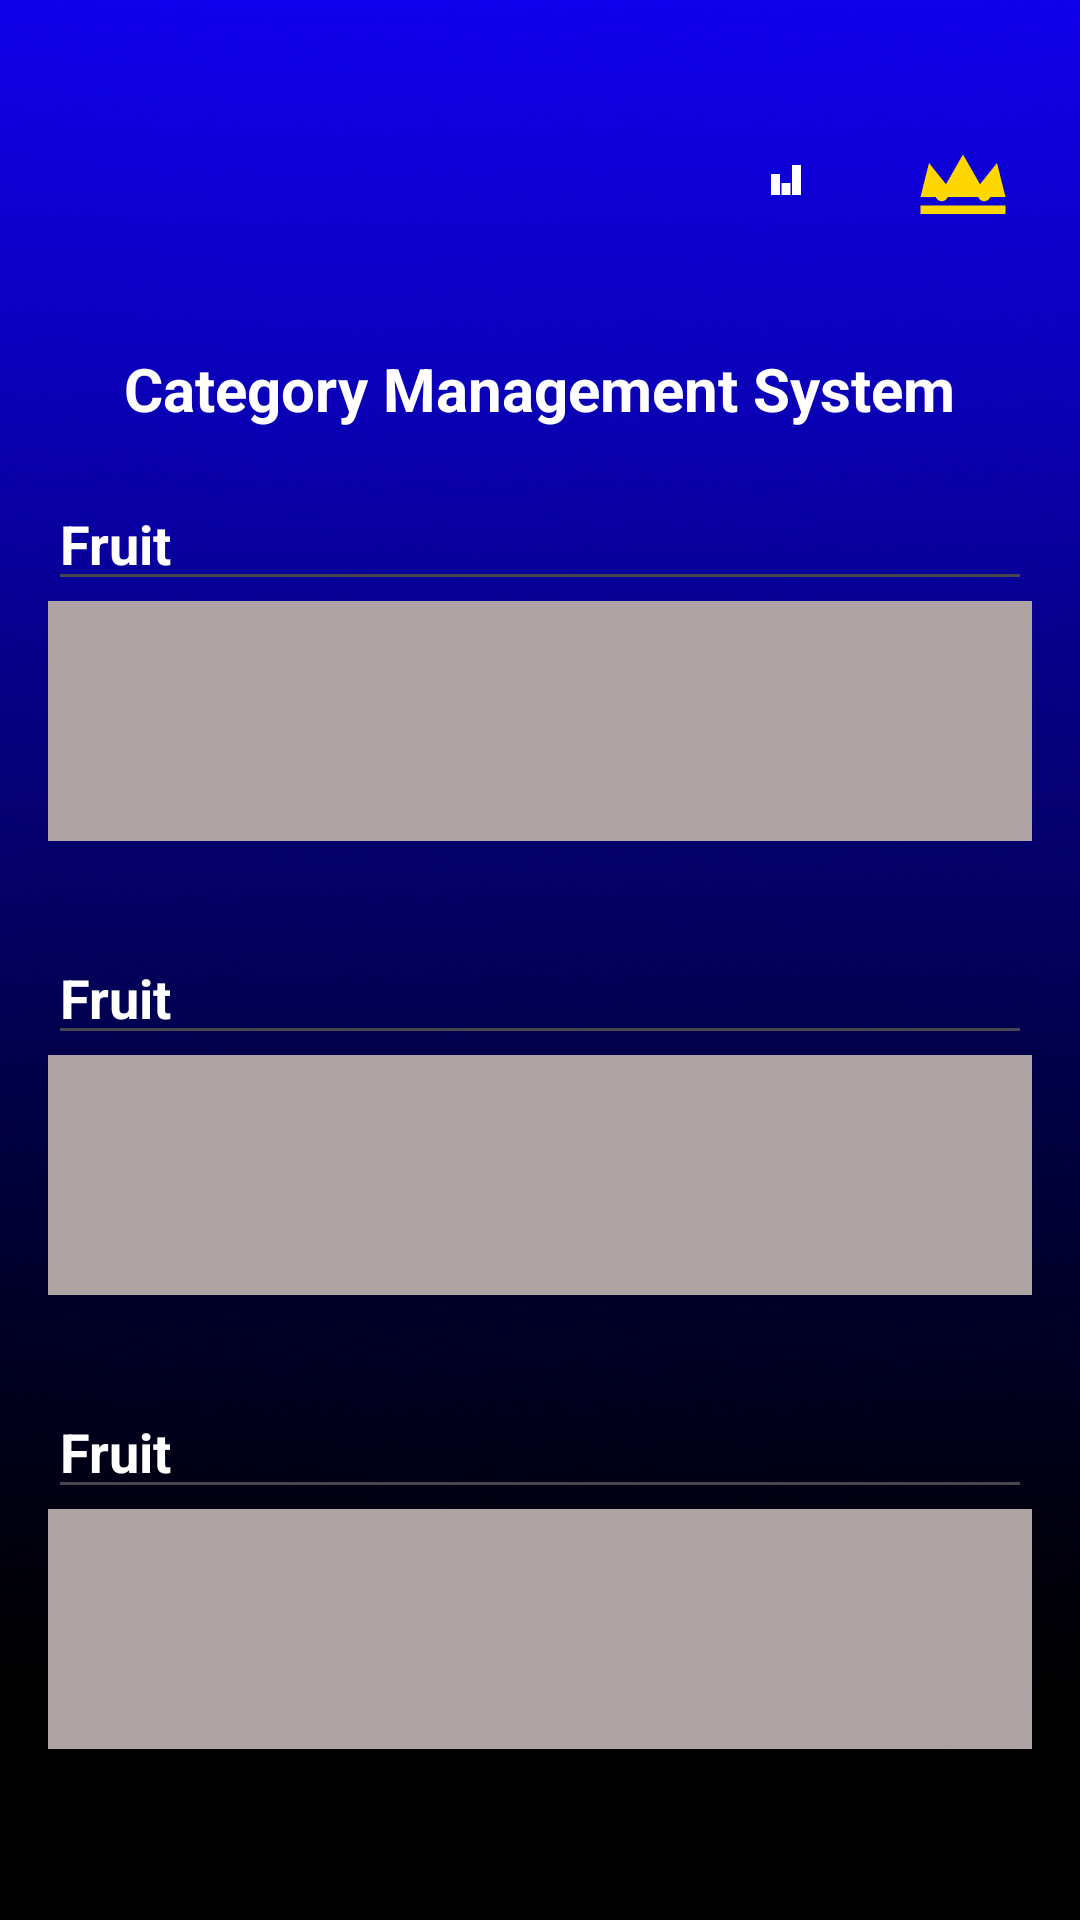

Screen size 1080 x 1920. Icon name, then its box in pixels as BBox(x1, y1, x2, y2):
Crown: BBox(920, 155, 1006, 214)
Leaderboard: BBox(771, 165, 801, 195)
